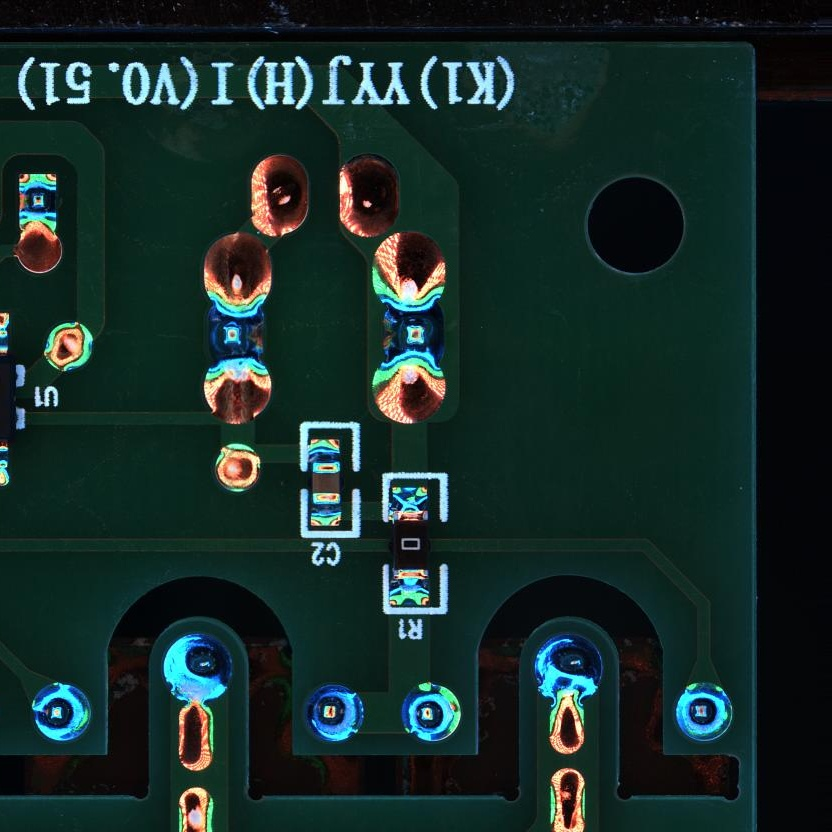spot: (161, 632, 234, 706), (532, 632, 604, 703), (375, 303, 446, 373), (201, 301, 270, 369), (401, 681, 464, 745), (303, 681, 365, 745), (29, 680, 91, 743), (674, 681, 733, 744), (15, 171, 58, 235)
